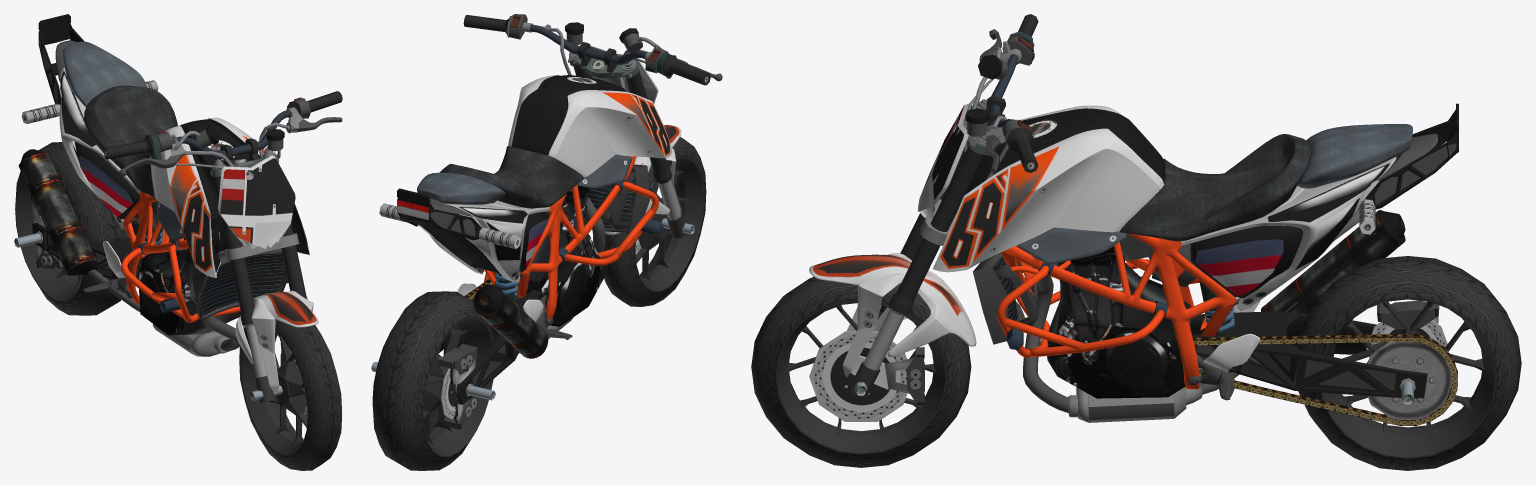
File: Motorbike 6.FBX
3 renders of one model, left to right at view 1: azimuth 30°, elevation 25°; view 2: azimuth 150°, elevation 25°; view 3: azimuth 270°, elevation 25°, orthographic. The views are drawn at different scales.
Visible parts, largest first — view 1: Body, Steer, Wheel_F, Wheel_B, Mudguard, forks_rear; view 2: Body, Wheel_B, Wheel_F, Steer, forks_rear, Mudguard; view 3: Body, Wheel_B, Wheel_F, forks_rear, Steer, Mudguard.
Boxes of the visible parts, x1,y1,x2,y2 form: Body: (18, 14, 309, 356); Steer: (104, 91, 342, 327); Wheel_F: (239, 320, 342, 470); Wheel_B: (14, 142, 133, 315); Mudguard: (235, 290, 318, 402); forks_rear: (30, 193, 141, 278); Body: (379, 75, 671, 358); Wheel_B: (371, 291, 495, 470); Wheel_F: (603, 137, 706, 306); Steer: (463, 14, 722, 183); forks_rear: (438, 278, 542, 429); Mudguard: (605, 125, 686, 238); Body: (933, 103, 1458, 422); Wheel_B: (1296, 256, 1521, 470); Wheel_F: (751, 277, 971, 467); forks_rear: (1190, 300, 1457, 426); Steer: (889, 14, 1038, 315); Mudguard: (809, 253, 976, 405).
Bounding box in the file's own units: 62.25 × 78.52 × 139.
Materials: 5 (4 with a texture image).
